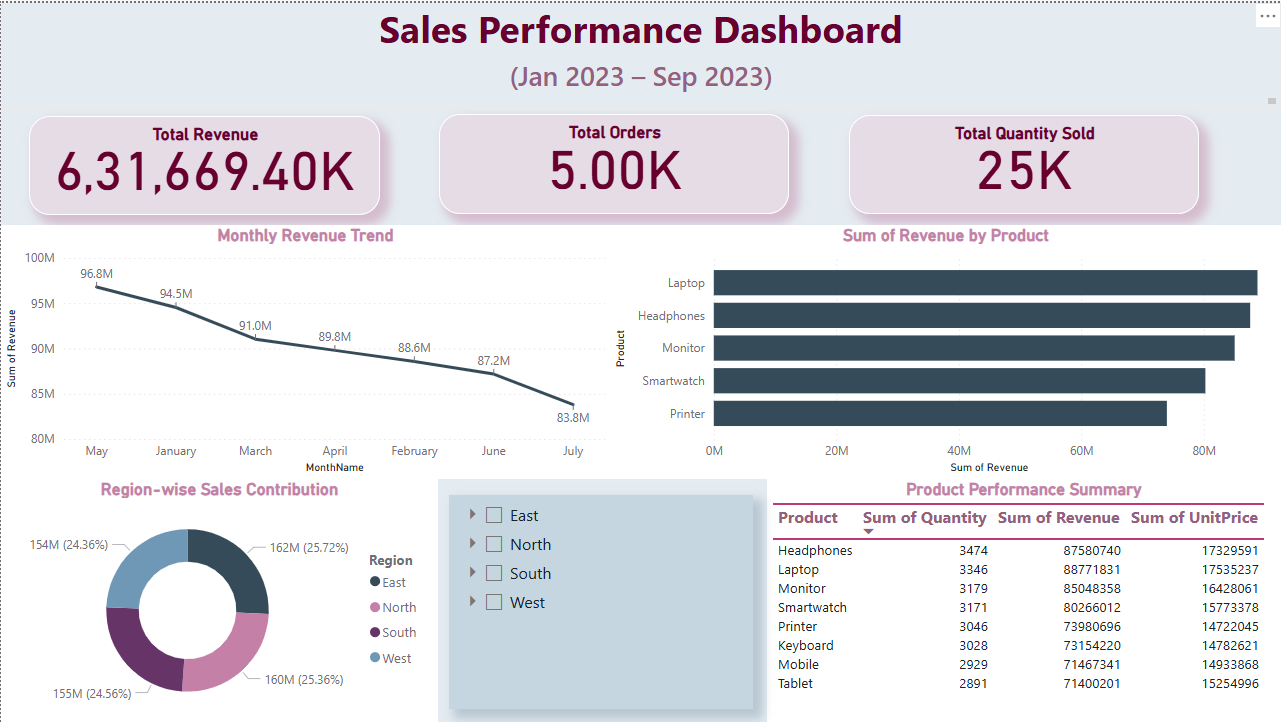

This screenshot's page, from the dashboard's own definition file:
{"tool":"powerbi","page":{"name":"Page 1","canvas":[1280,720],"ordinal":0},"visuals":[{"type":"card","title":"Total Revenue","fields":{"Values":["Sum(Sales_Data_5000_Rows.Revenue)"]},"box":[28.3,113.2,350.7,99.1],"z":0},{"type":"card","title":"Total Orders","fields":{"Values":["CountNonNull(Sales_Data_5000_Rows.OrderID)"]},"box":[437.6,111.5,350.7,100],"z":1000},{"type":"card","title":"Total Quantity Sold","fields":{"Values":["Sum(Sales_Data_5000_Rows.Quantity)"]},"box":[847.6,111.6,350.7,99.1],"z":2000},{"type":"lineChart","title":"Monthly Revenue Trend","fields":{"Category":["Sales_Data_5000_Rows.MonthName"],"Y":["Sum(Sales_Data_5000_Rows.Revenue)"]},"box":[0,222.1,609,254.3],"z":3000},{"type":"clusteredBarChart","fields":{"Category":["Sales_Data_5000_Rows.Product"],"Y":["Sum(Sales_Data_5000_Rows.Revenue)"]},"box":[609,222.1,671.6,254.3],"z":4000},{"type":"donutChart","title":"Region-wise Sales Contribution","fields":{"Category":["Sales_Data_5000_Rows.Region"],"Y":["Sum(Sales_Data_5000_Rows.Revenue)"]},"box":[0,476.5,437.1,243.7],"z":5000},{"type":"tableEx","title":"Product Performance Summary","fields":{"Values":["Sales_Data_5000_Rows.Product","Sum(Sales_Data_5000_Rows.Quantity)","Sum(Sales_Data_5000_Rows.Revenue)","Sum(Sales_Data_5000_Rows.UnitPrice)"]},"box":[765.8,476.5,514.2,243.7],"z":6000},{"type":"slicer","fields":{"Values":["Sales_Data_5000_Rows.Region","Sales_Data_5000_Rows.Product","Sales_Data_5000_Rows.Year"]},"box":[448.2,492.2,303.5,213.9],"z":7000},{"type":"textbox","title":"Sales Performance Dashboard","box":[0,0,1279.7,105.7],"z":8000}]}

Visuals, with their boxes in screenshot pixels (x1, y1, x2, y2), scaled from the page's 1280x720 canvas onto the 1281x722 screenshot:
"Total Revenue" card: 28:114:379:213
"Total Orders" card: 438:112:789:212
"Total Quantity Sold" card: 848:112:1199:211
"Monthly Revenue Trend" lineChart: 0:223:609:478
clusteredBarChart - Sales_Data_5000_Rows.Product x Sum(Sales_Data_5000_Rows.Revenue): 609:223:1280:478
"Region-wise Sales Contribution" donutChart: 0:478:437:721
"Product Performance Summary" tableEx: 766:478:1280:721
slicer - Sales_Data_5000_Rows.Region x Sales_Data_5000_Rows.Product: 449:494:752:708
"Sales Performance Dashboard" textbox: 0:0:1280:106
